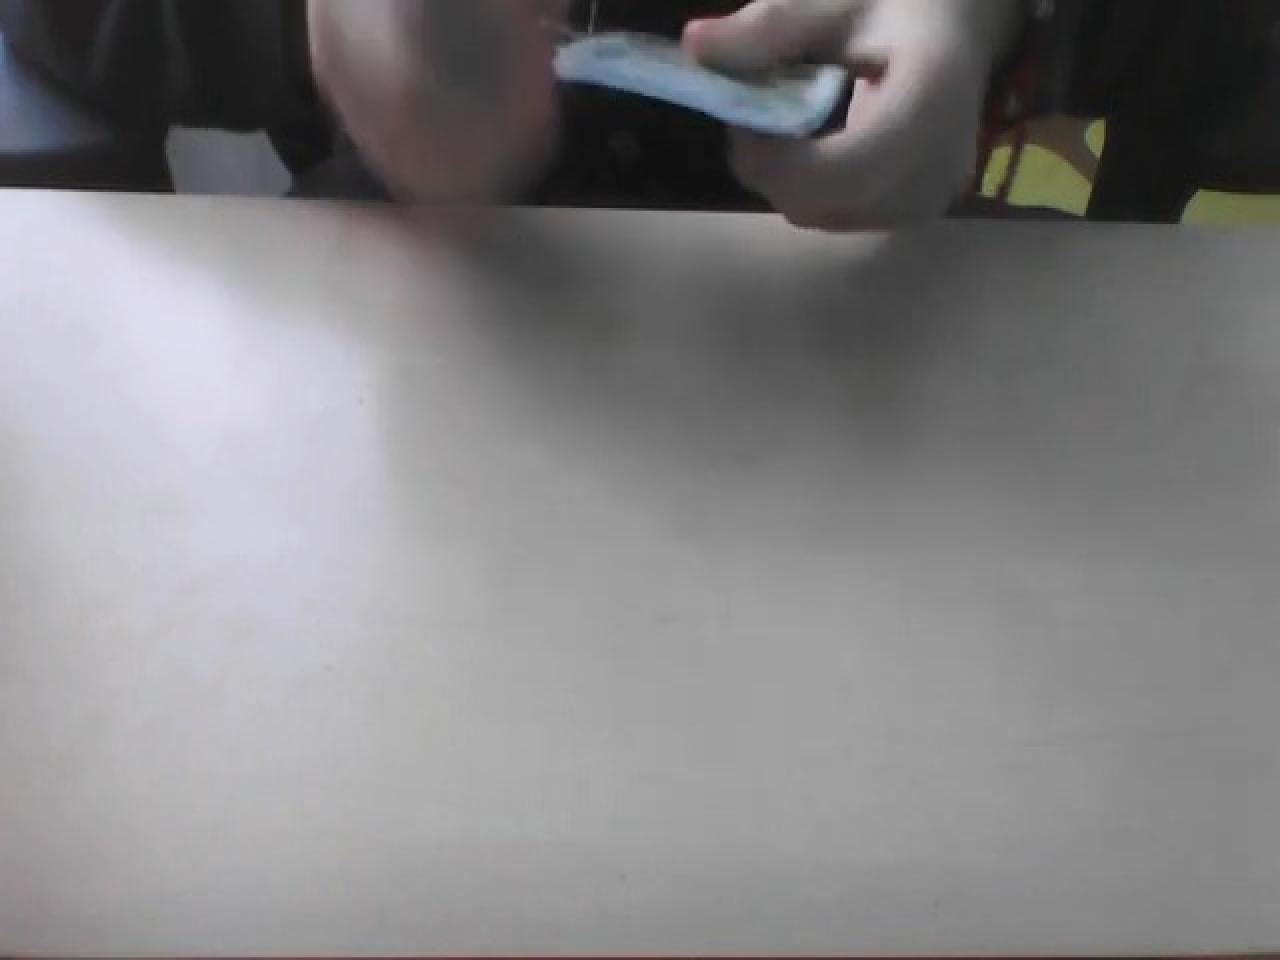100leva: (548, 24, 852, 144)
